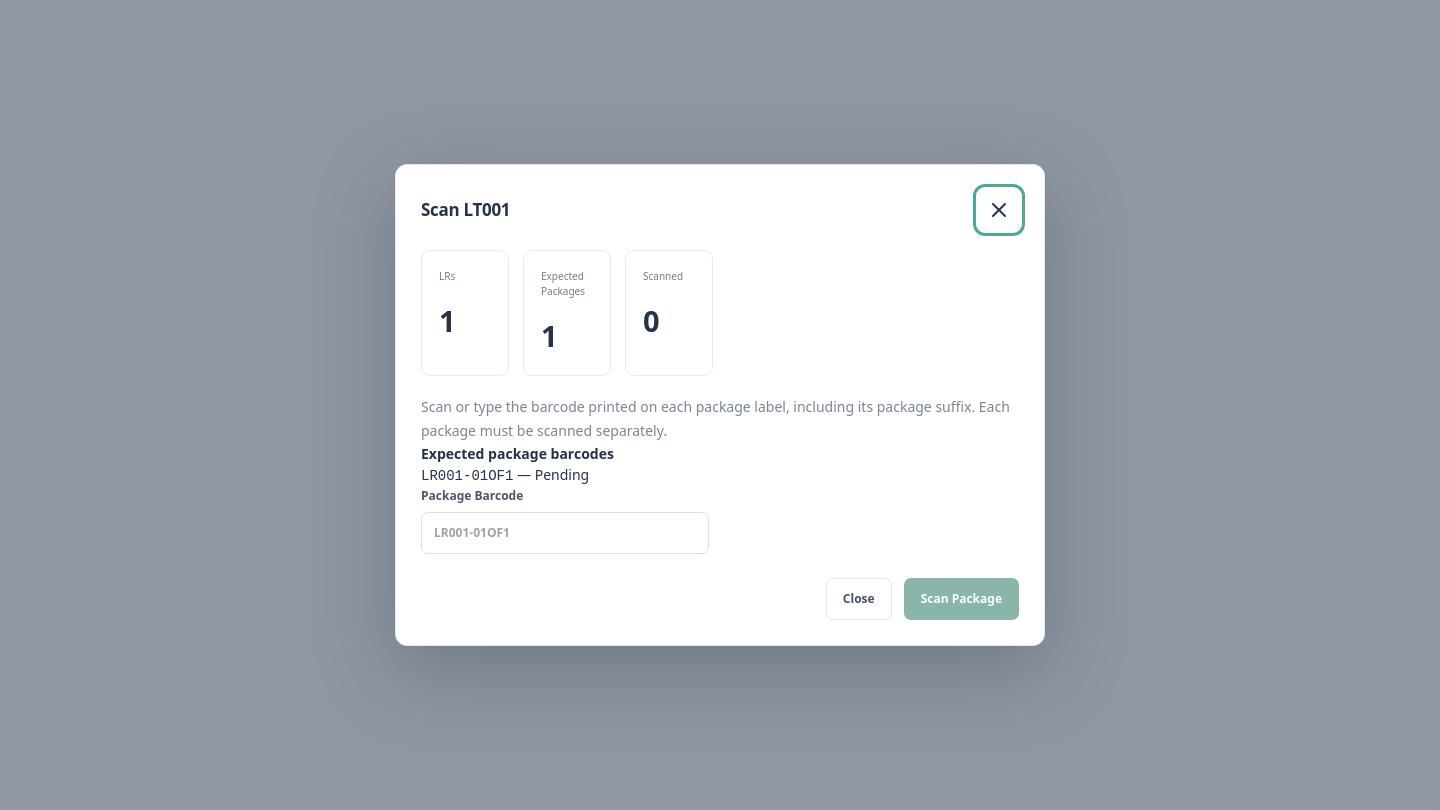
Test: shows package barcodes and keeps invalid input with an inline error, then updates successful scans
expect the text "LR001-01OF1" is shown: met, box 421,468 -> 513,484
Type "LR001" into the field. click: (565, 533)
box: 421,512 -> 708,554
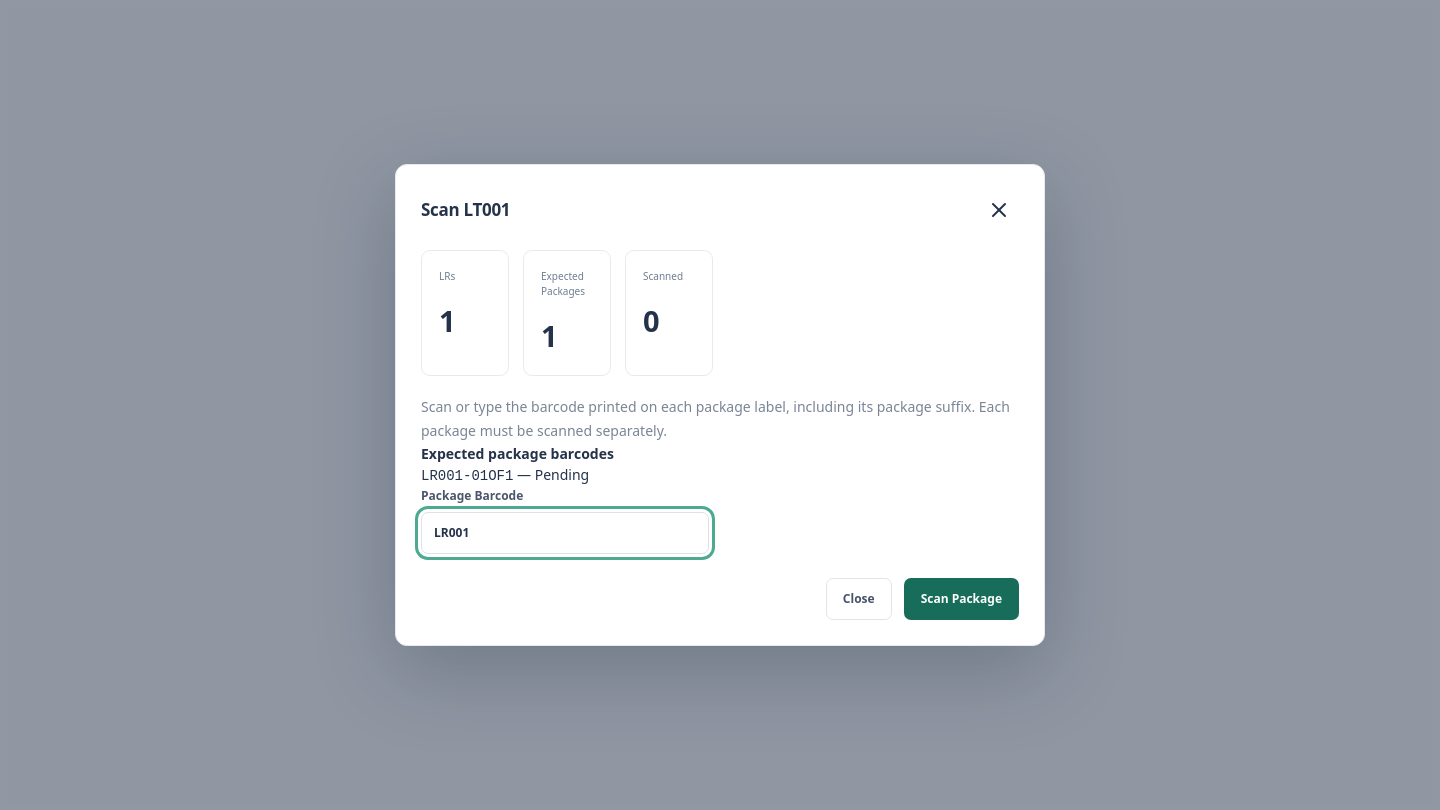
Click the button "Scan Package". click: (961, 599)
box: 904,578 -> 1019,620
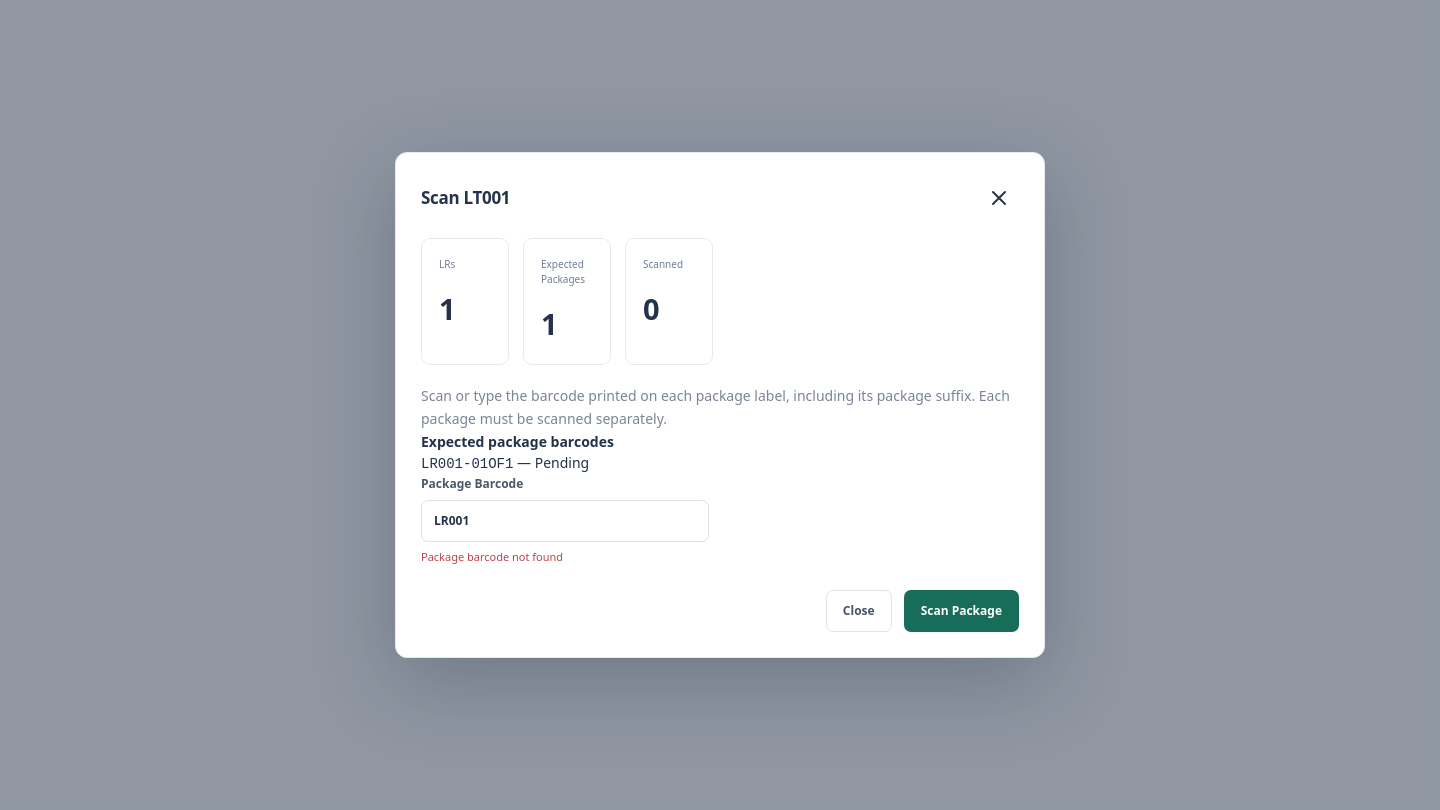
expect the message reads "Package barcode not found": met, box 421,549 -> 563,564
Replace the text in the field with "LR001-01OF1". click: (565, 521)
box: 421,500 -> 708,542
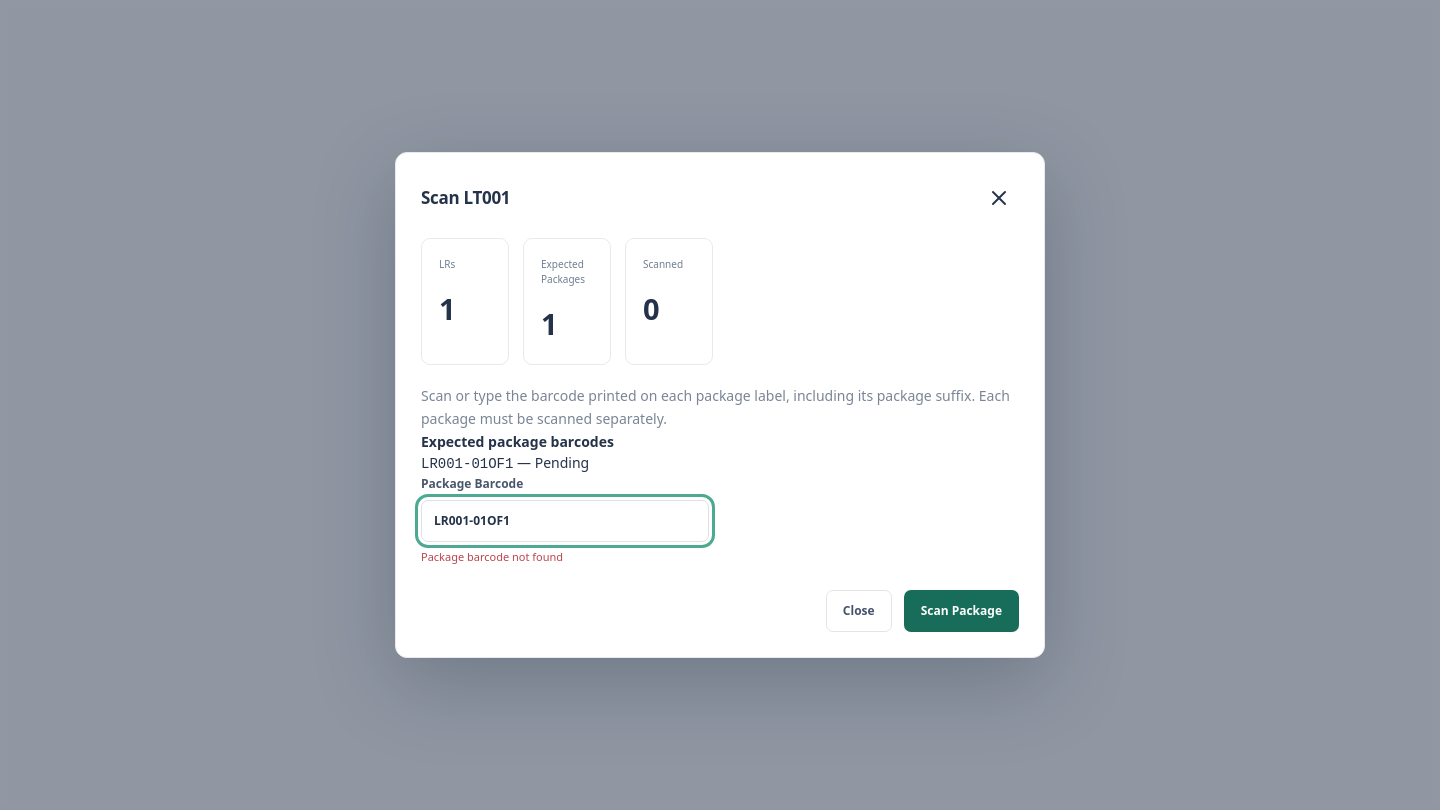
Click the button "Scan Package". click: (961, 611)
box: 904,590 -> 1019,632
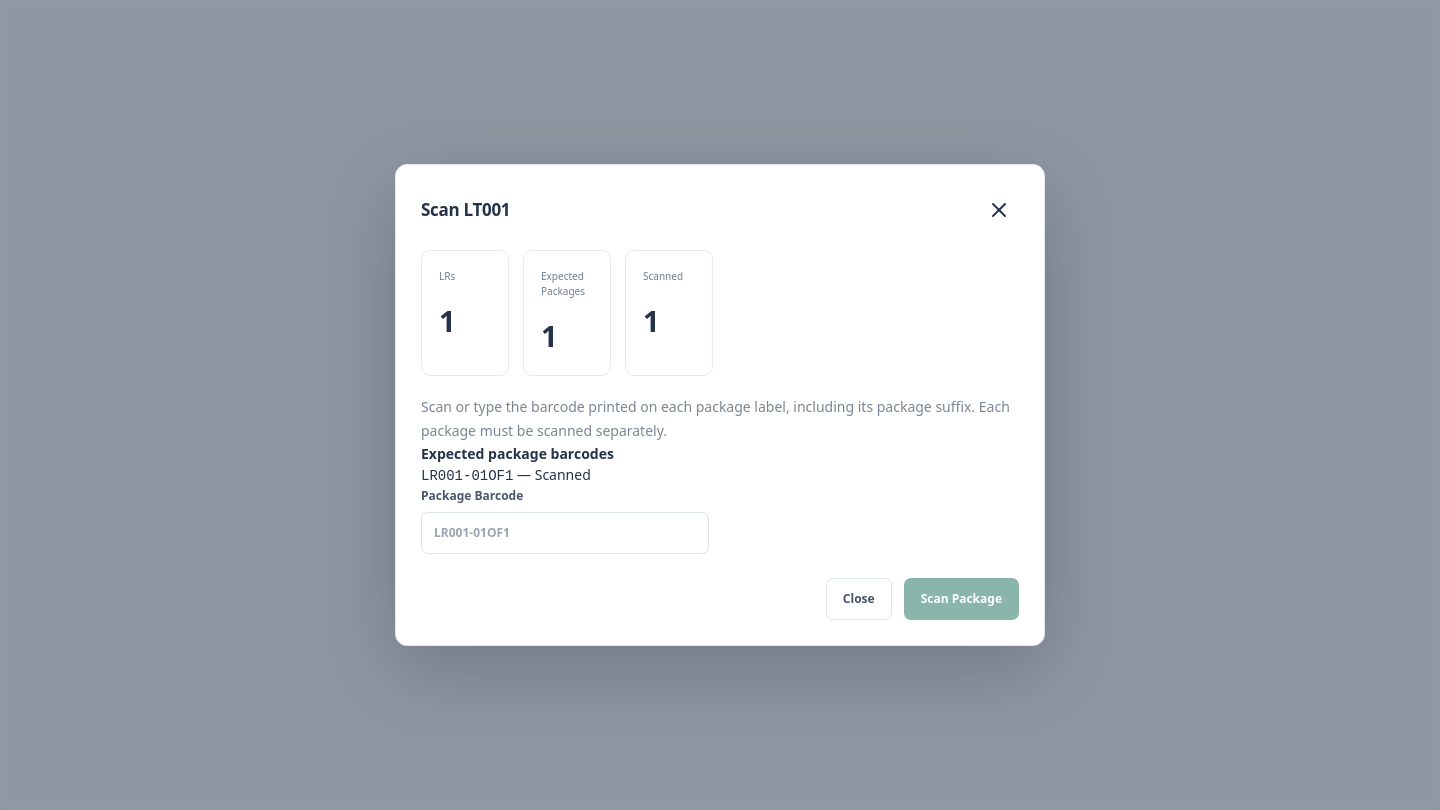
expect the list item "LR001-01OF1 — Scanned" is shown: met, box 421,465 -> 591,484
